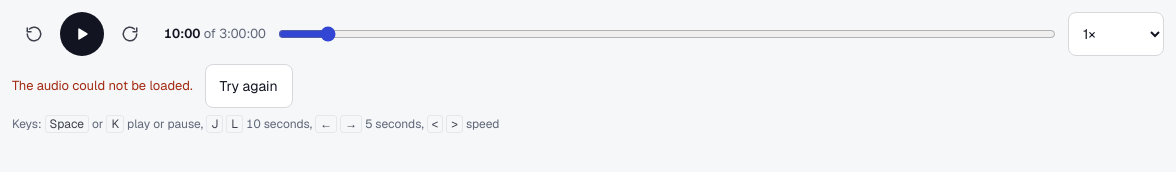
Test case: AudioPlayer › on a load error (an expired URL), refreshes once and resumes; a second error there shows a message
This screenshot has width=1176, height=172.
Expected: the message shows "The audio could not be loaded.", [12,77,192,94]
Expected: the button named "Play" is shown, [60,12,104,56]
Click the button "Try again": (249, 86) [204,64,293,108]
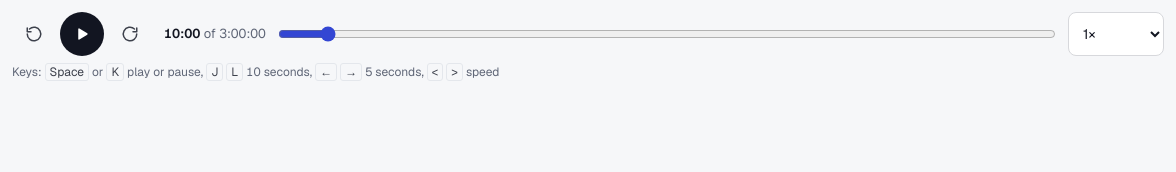
Expected: the message "The audio could not be loaded. Try again" is gone
